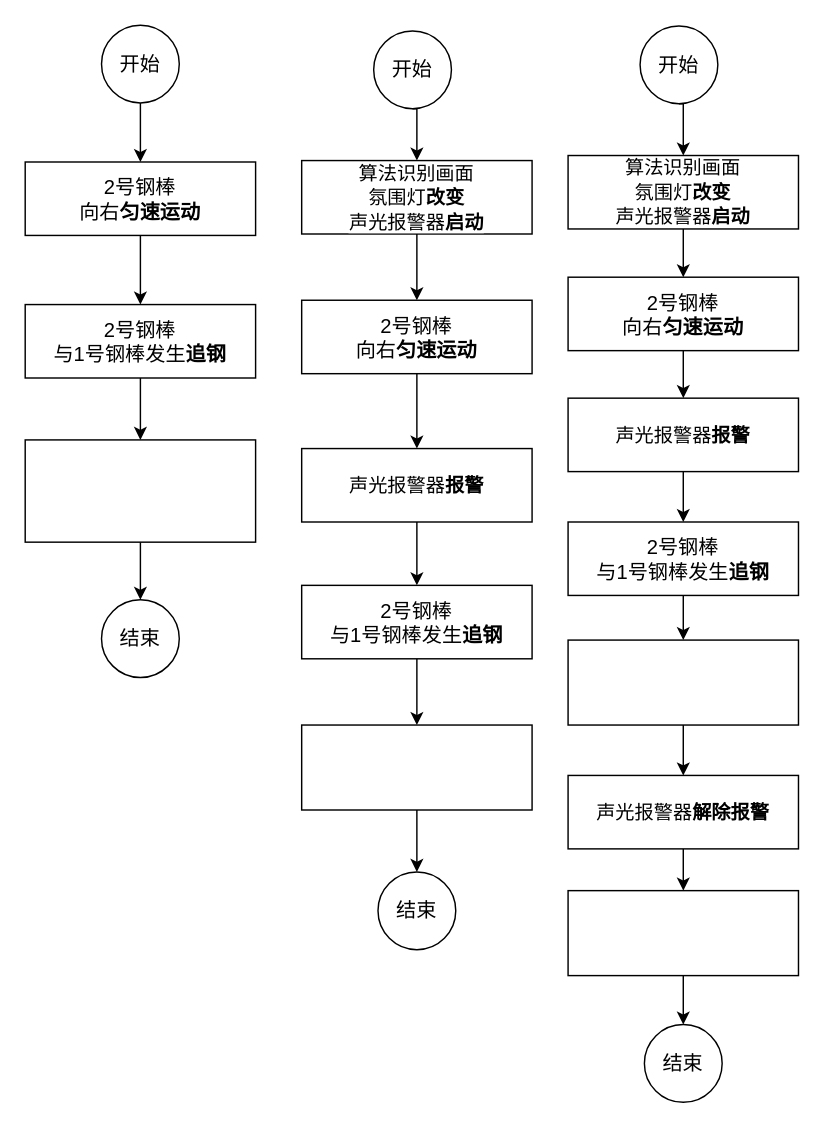
The diagram is 824 pixels wide and 1128 high, and some of its shapes have lost their labels. The shapes that lost their labels are listed below. From the top down, each one's box as (x1, y1, x2, y2) in pixels, then its label:
(24, 438, 256, 542): 1号钢棒被提升链 提升 2号钢棒被提升链 斜拉
(567, 639, 798, 725): 2号钢棒 往回运动复位
(300, 724, 532, 810): 2号钢棒 停止运动 系统 停止运转
(567, 889, 798, 976): 1号钢棒被提升链 提升
